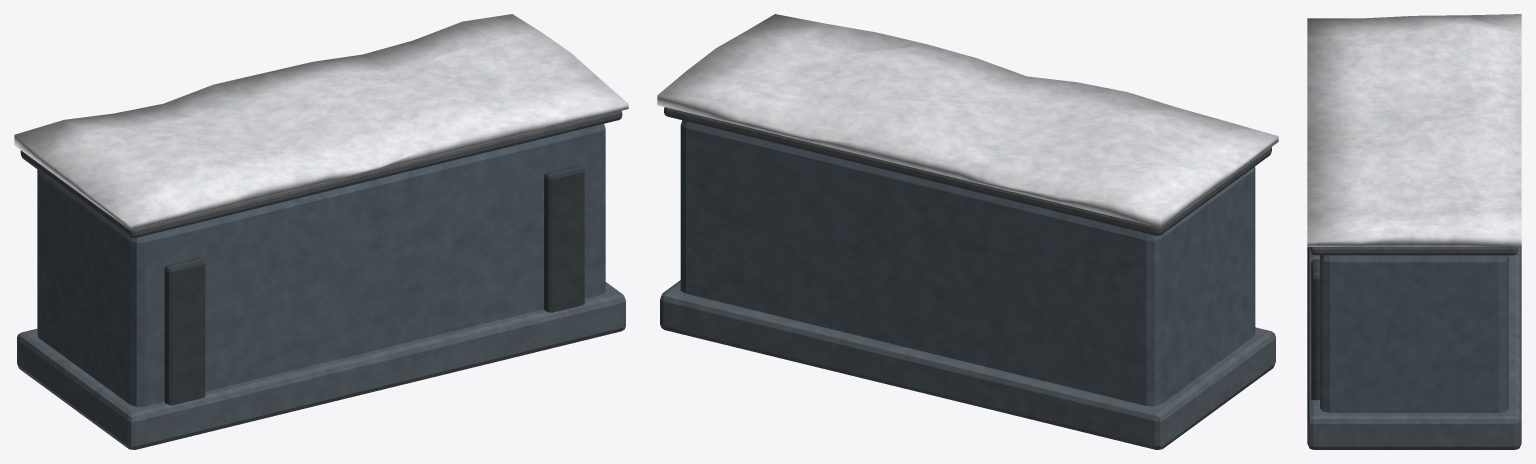
The model's file is SF_Cover_8.glb.
3 views of the same model, side by side, from view 1: azimuth 30°, elevation 25°; view 2: azimuth 150°, elevation 25°; view 3: azimuth 270°, elevation 25° (orthographic). The views are drawn at different scales.
Visible parts, largest first — view 1: SF_Cover_8; view 2: SF_Cover_8; view 3: SF_Cover_8.
Part boxes in pixels (x1,y1,x2,y2): SF_Cover_8: (14, 14, 628, 449); SF_Cover_8: (657, 14, 1278, 449); SF_Cover_8: (1307, 14, 1521, 449).
Size of the model in its own units: 8.4 by 3.96 by 3.4.
Materials: 1 (1 with a texture image).
